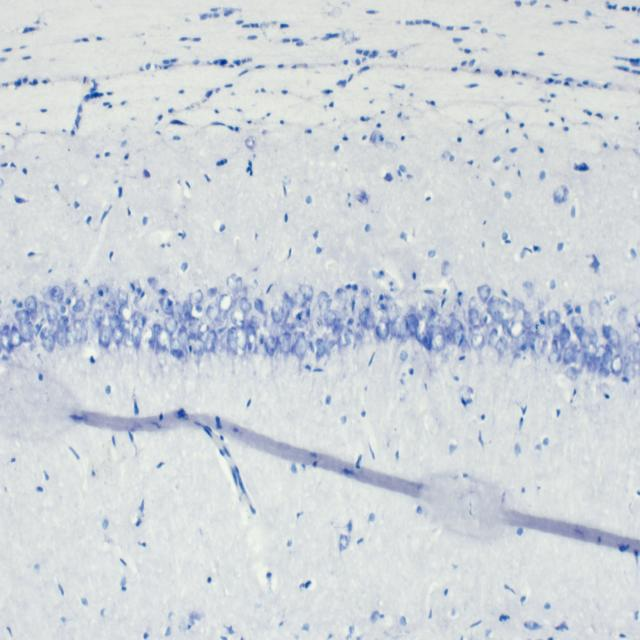neuron: (486, 294, 510, 321), (602, 324, 622, 350), (156, 326, 171, 353), (180, 317, 202, 335), (294, 332, 308, 360), (359, 308, 375, 332), (393, 314, 408, 338), (18, 321, 34, 343), (404, 314, 420, 336), (448, 317, 464, 339), (227, 327, 240, 354), (572, 349, 586, 374), (277, 332, 292, 355), (295, 308, 311, 329), (318, 290, 332, 314), (416, 314, 428, 342), (235, 327, 248, 352), (188, 337, 205, 356), (118, 302, 134, 322), (430, 332, 446, 352), (610, 354, 623, 378), (9, 326, 23, 348), (64, 325, 78, 347), (206, 302, 220, 324), (231, 306, 245, 328), (623, 359, 637, 381), (253, 298, 268, 318), (98, 324, 111, 347), (246, 322, 256, 351), (158, 297, 174, 315), (509, 320, 525, 338), (299, 283, 314, 302), (470, 333, 485, 352), (164, 316, 178, 336), (376, 320, 390, 340), (452, 326, 466, 346), (478, 284, 492, 304), (0, 328, 12, 351), (264, 334, 276, 357), (204, 330, 217, 351), (271, 303, 284, 324), (386, 302, 399, 323), (14, 308, 30, 325), (218, 294, 233, 312), (588, 299, 603, 317), (133, 310, 147, 329), (178, 325, 190, 347), (535, 316, 547, 338), (132, 324, 142, 350), (547, 309, 560, 329), (188, 288, 204, 304), (45, 304, 59, 322), (238, 296, 252, 314), (361, 285, 371, 310), (49, 286, 64, 302), (112, 324, 124, 344), (42, 334, 56, 351), (511, 297, 525, 314), (616, 306, 629, 324), (106, 302, 117, 323), (171, 337, 182, 358), (629, 328, 640, 349), (56, 328, 68, 347), (117, 287, 129, 306), (250, 315, 262, 334), (282, 291, 294, 310), (440, 259, 452, 278), (24, 296, 38, 312), (578, 332, 591, 349), (560, 328, 571, 348), (324, 310, 336, 328), (496, 337, 508, 355), (563, 347, 575, 365), (284, 316, 298, 331), (487, 328, 498, 347), (522, 310, 533, 329), (335, 288, 348, 304), (332, 322, 345, 338), (387, 320, 397, 340), (182, 300, 193, 318), (547, 351, 561, 365), (570, 315, 584, 329), (108, 315, 121, 330), (467, 308, 480, 323), (316, 338, 326, 357), (94, 308, 105, 325), (227, 273, 238, 290), (124, 330, 134, 348), (461, 338, 471, 356), (566, 366, 578, 381), (588, 326, 598, 344), (595, 345, 607, 360), (73, 298, 85, 312), (57, 315, 69, 329), (73, 318, 85, 332), (586, 342, 598, 356), (234, 276, 243, 294), (315, 316, 324, 334), (118, 319, 130, 332), (146, 276, 158, 289), (174, 300, 183, 317), (631, 347, 640, 363), (467, 296, 478, 309), (526, 330, 537, 343), (597, 367, 610, 378), (326, 339, 334, 356), (50, 285, 61, 297), (40, 326, 50, 339), (343, 332, 352, 346), (207, 286, 218, 297), (552, 339, 560, 352), (399, 350, 408, 361), (152, 323, 160, 333)
